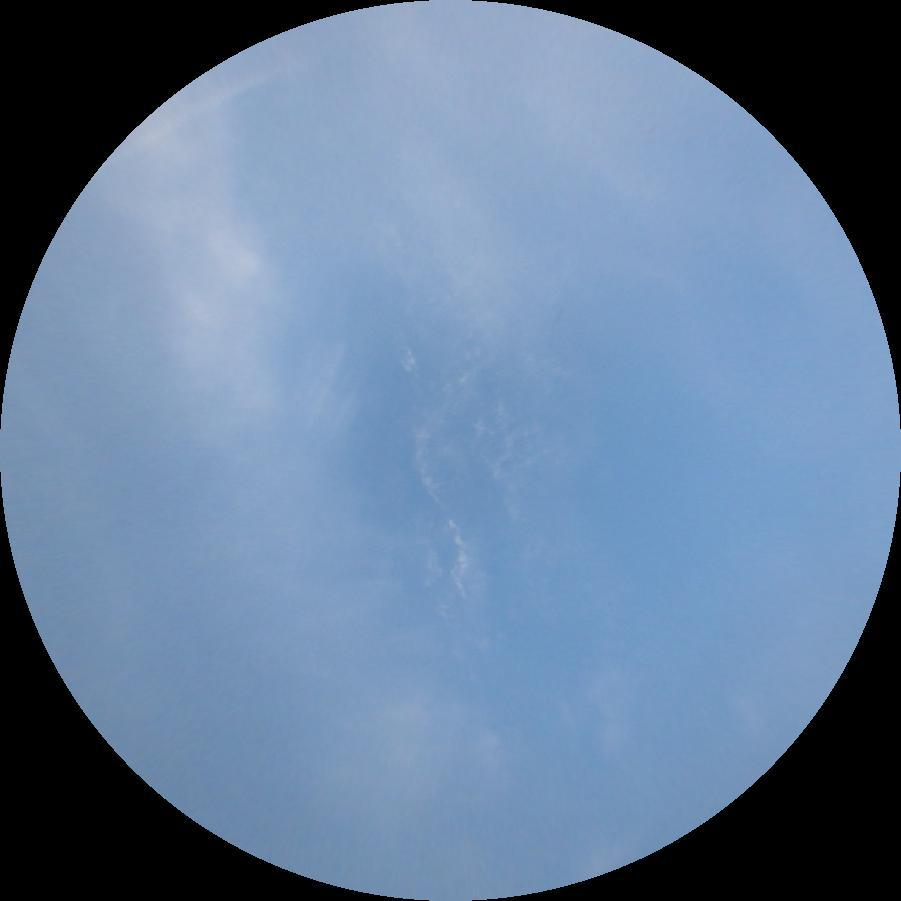contrail veryold: (148, 49, 304, 138)
